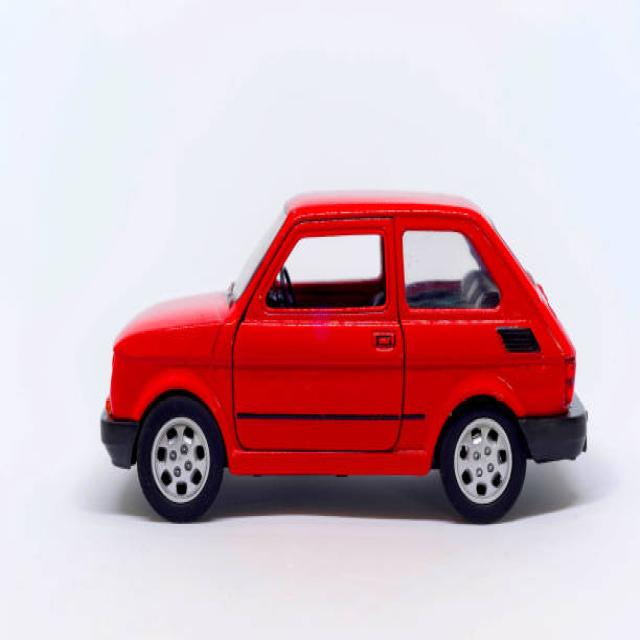Car: (99, 188, 588, 524)
